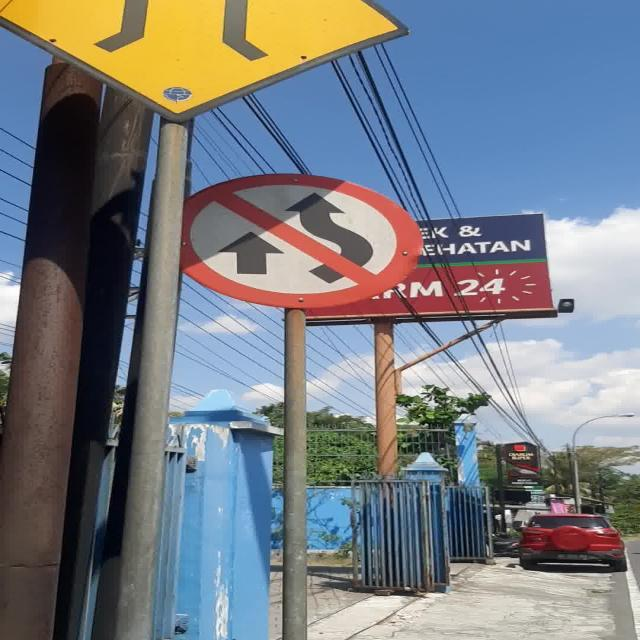Dilarang Mendahului: (185, 173, 422, 307)
